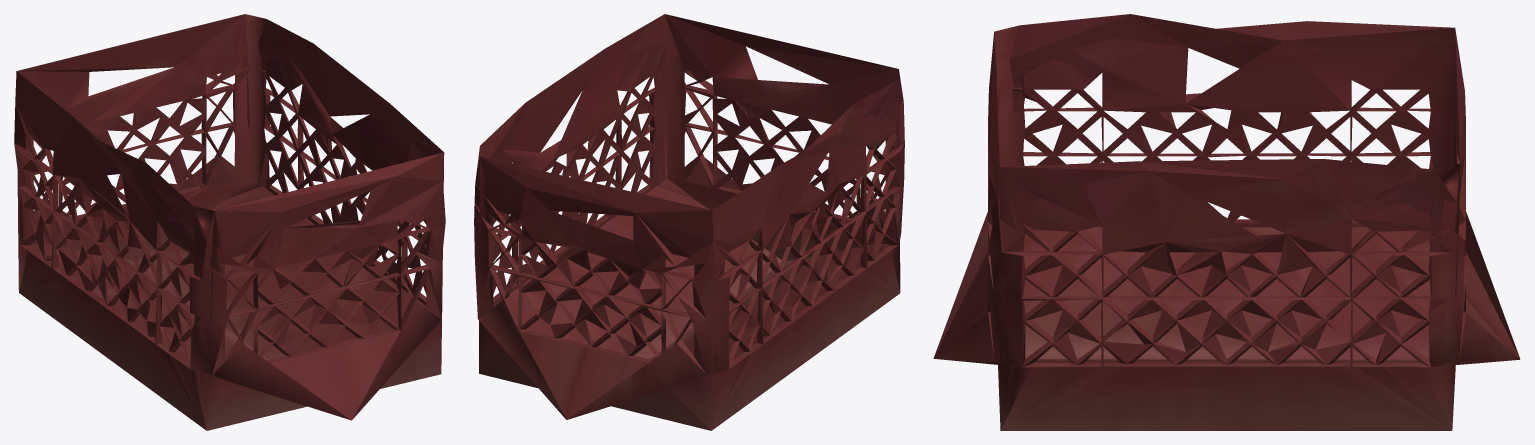
The model's file is plastic_crate_01.glb.
The picture shows the model from 3 angles, left to right: view 1: azimuth 30°, elevation 25°; view 2: azimuth 150°, elevation 25°; view 3: azimuth 270°, elevation 25°; orthographic projection. The views are drawn at different scales.
Visible parts, largest first — view 1: plastic_crate_01; view 2: plastic_crate_01; view 3: plastic_crate_01.
Part boxes in pixels (<box>): plastic_crate_01: <box>14,14,445,430</box>; plastic_crate_01: <box>474,14,904,430</box>; plastic_crate_01: <box>933,14,1520,430</box>.
Bounding box in the file's own units: 0.298 × 0.2602 × 0.5014.
Materials: 1 (1 with a texture image).
